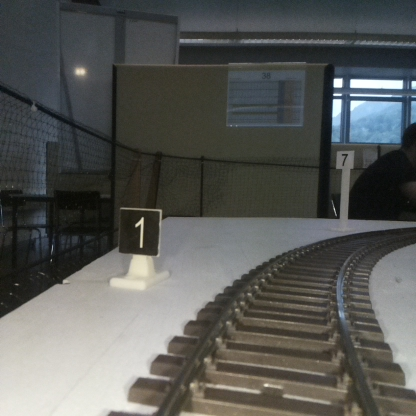black-stop-1: (118, 210, 160, 285)
white-info-7: (336, 150, 353, 231)
